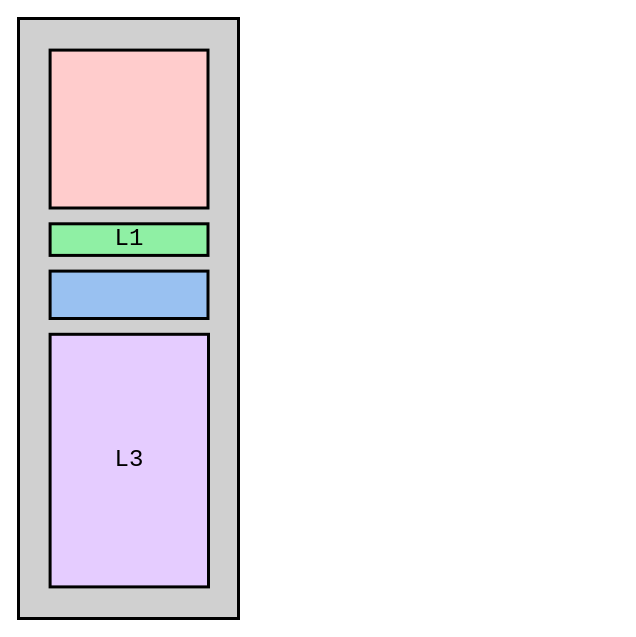
Image size: 636x637. Some labels were removed from this diagram. The shapes that lost their labels are listed below. From the top down, each one's centre as x and y in pixels, then its label:
At pixel 128 128: "Core".
At pixel 128 294: "L2".
